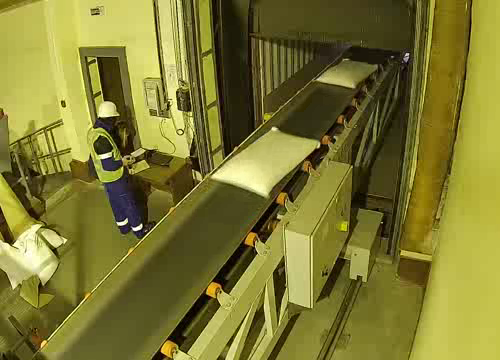bag: (191, 120, 332, 215), (310, 52, 381, 96)
